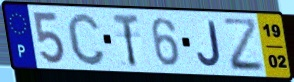5: (31, 10, 67, 66)
6: (149, 16, 182, 68)
C: (65, 11, 108, 68)
J: (196, 19, 223, 68)
T: (110, 12, 140, 69)
Z: (220, 17, 267, 73)
